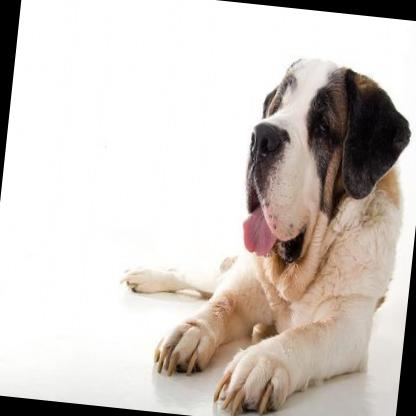Saint_Bernard: (107, 17, 416, 416)
